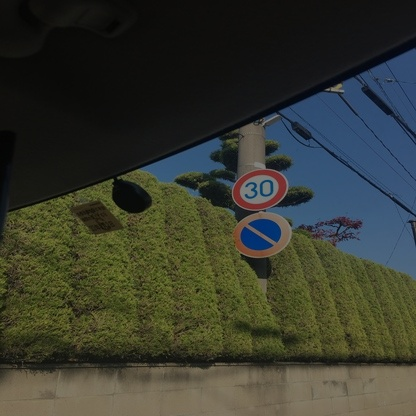Prohibition_sign: (225, 215, 306, 270)
Speed_sign: (228, 166, 293, 210)
